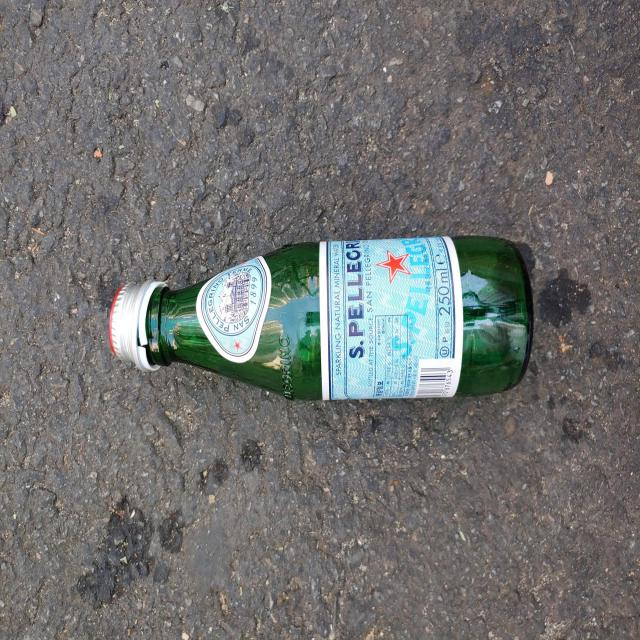glass: (109, 236, 534, 400)
